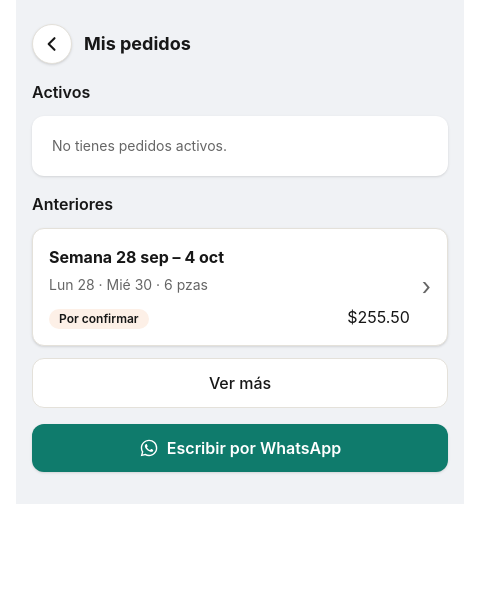
Test: lista de pedidos › sin pedidos: mensajes vacíos; «Ver más» pide la siguiente página
The width and height of the screenshot is (481, 589).
Expected: the text "No tienes pedidos activos." is shown, [52,137,227,154]
Click the button "Ver más".
click(240, 383)  # box [32,358,448,408]
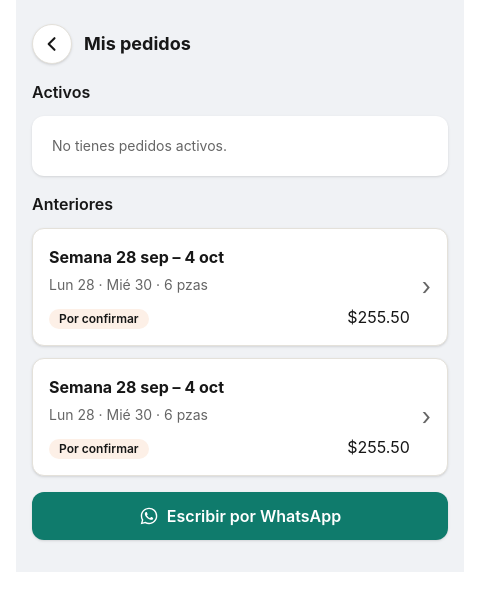
Expected: the text "Semana 28 sep – 4 oct" is shown 2 times, [49,245,224,269]; [49,375,224,399]
Expected: the button "Ver más" is gone
